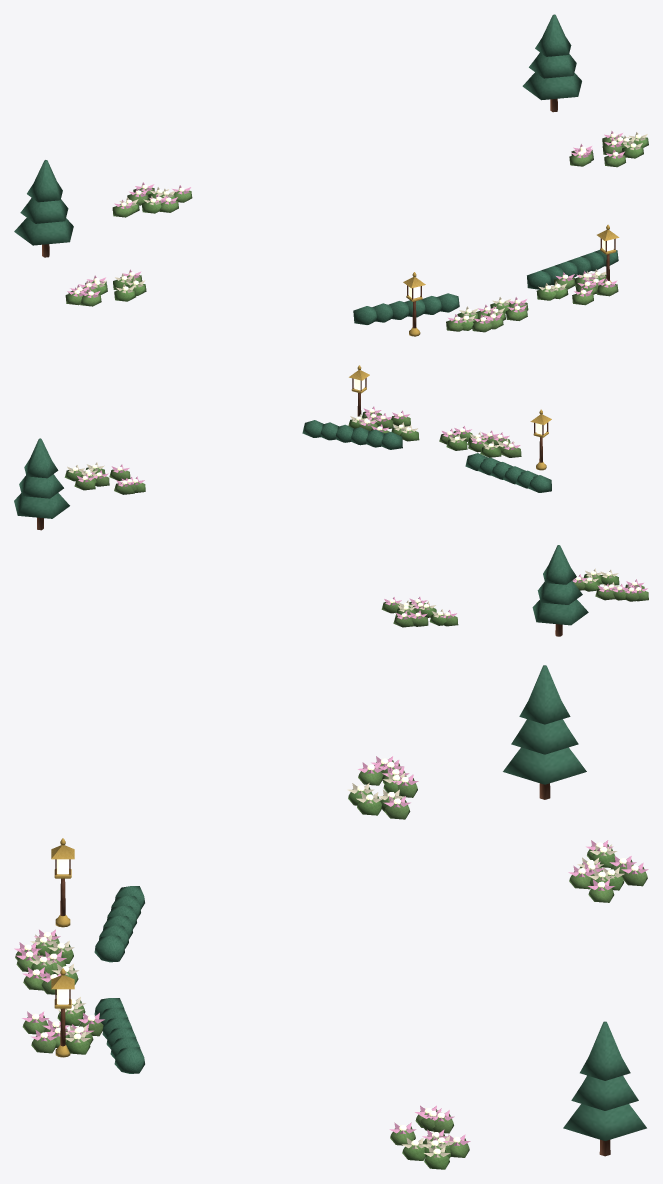
File: royal-garden-dressing-balanced.glb
3 views of the same model, one above another, from view 1: azimuth 30°, elevation 25°; view 2: azimuth 150°, elevation 25°; view 3: azimuth 270°, elevation 25° (orthographic). The views are drawn at different scales.
Parts seen in each view (by area): view 1: royal-garden-dressing; view 2: royal-garden-dressing; view 3: royal-garden-dressing.
Part boxes in pixels (box(x1,y1,x2,y2)): royal-garden-dressing: box(14, 14, 648, 336); royal-garden-dressing: box(14, 365, 648, 636); royal-garden-dressing: box(14, 665, 648, 1169).
Bounding box in the file's own units: 14.28 × 2.18 × 9.49.
Materials: 7 (7 with a texture image).
